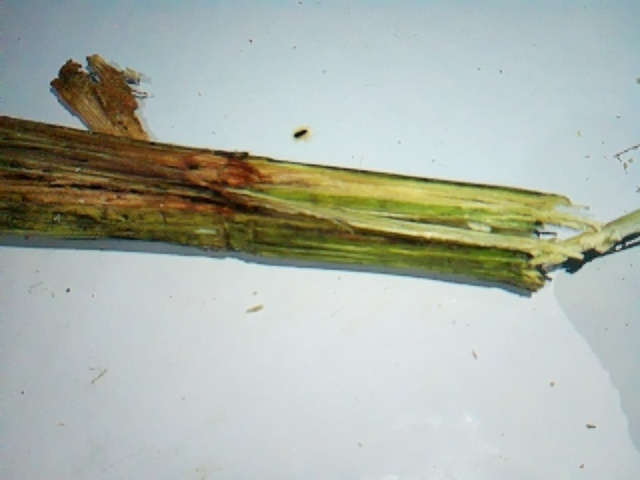Red-Rot: (0, 106, 297, 261)
